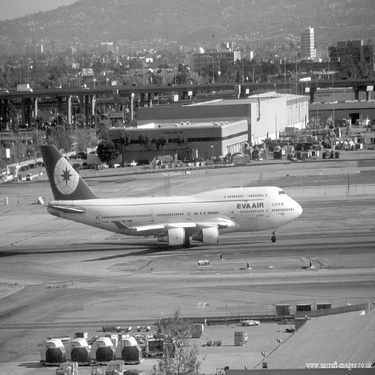airplane: (28, 134, 315, 262)
